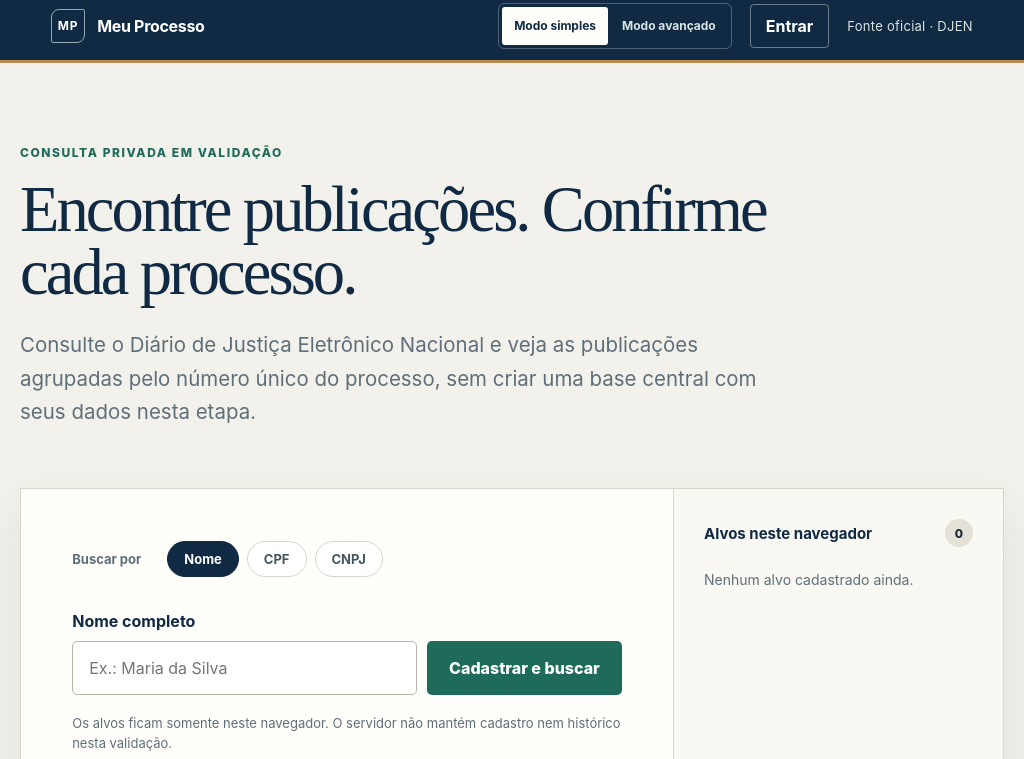
it: App › shows identical case facts in simple and advanced modes without refetching
Click the button "Entrar": (790, 26) [750, 4, 829, 48]
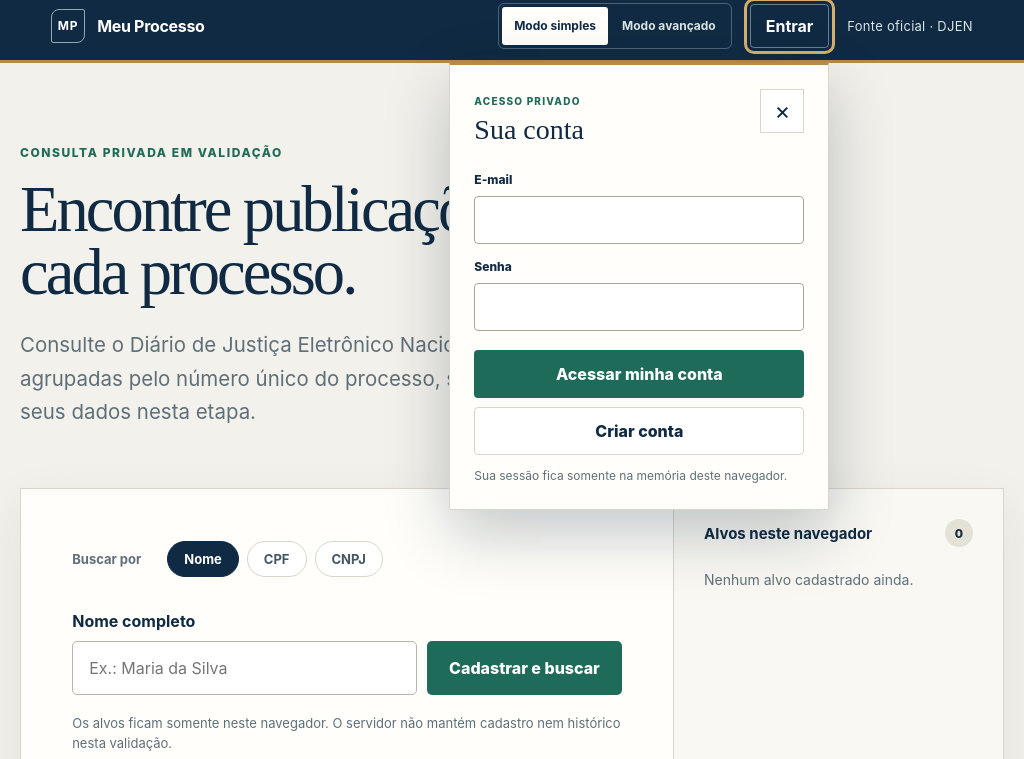
In the field labelled "E-mail": (639, 220) [474, 196, 804, 244], type "pessoa@example.test"
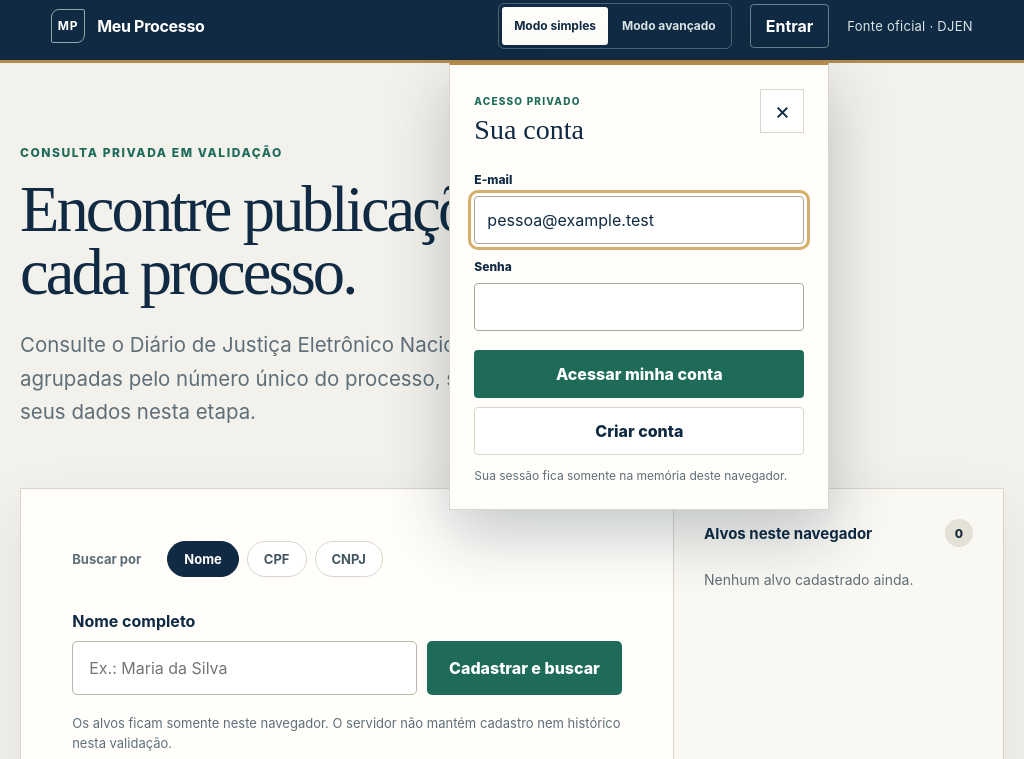
In the password field labelled "Senha": (639, 306) [474, 282, 804, 330], type "uma-senha-segura"
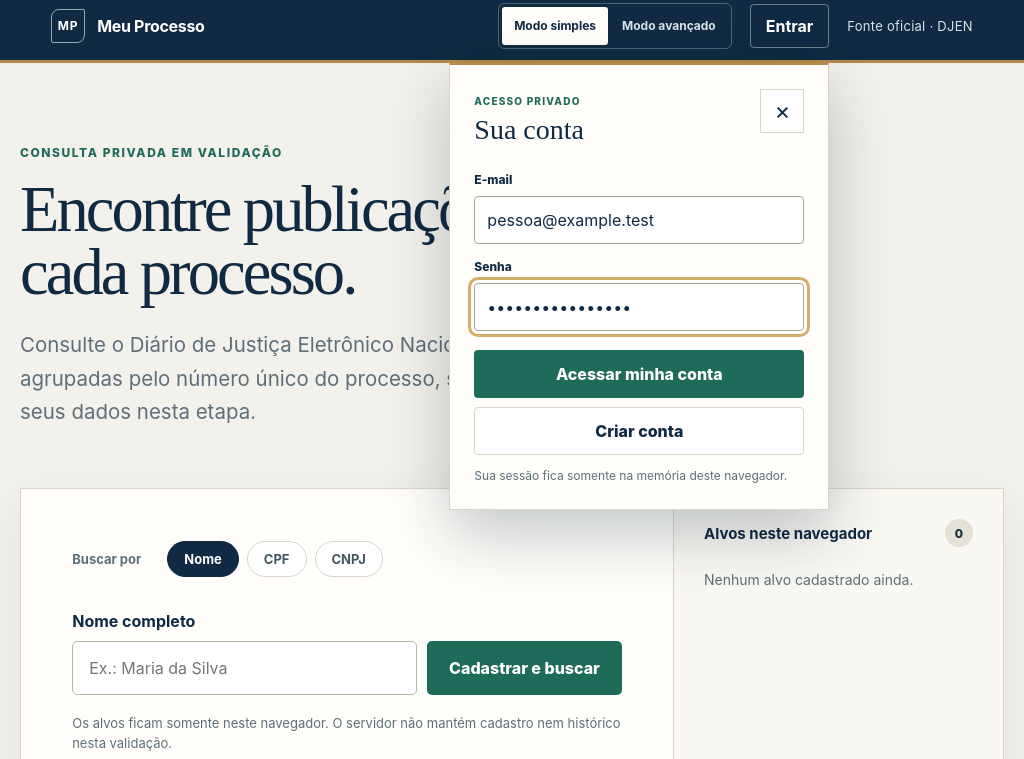
Click the button "Acessar minha conta": (639, 374) [474, 350, 804, 398]
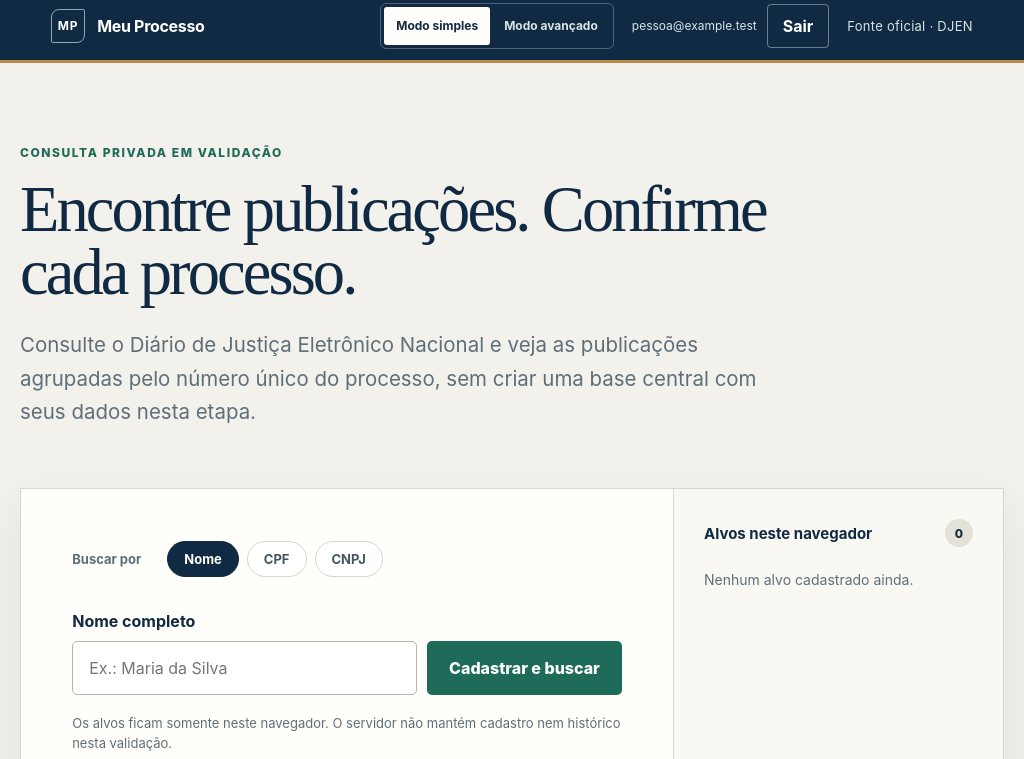
Now the text "pessoa@example.test" is shown, box [632, 18, 757, 33]
In the field labelled "Nome completo": (245, 668) [72, 640, 417, 694], type "Pessoa Exemplo"
Click the button "Cadastrar e buscar": (524, 668) [427, 640, 622, 694]
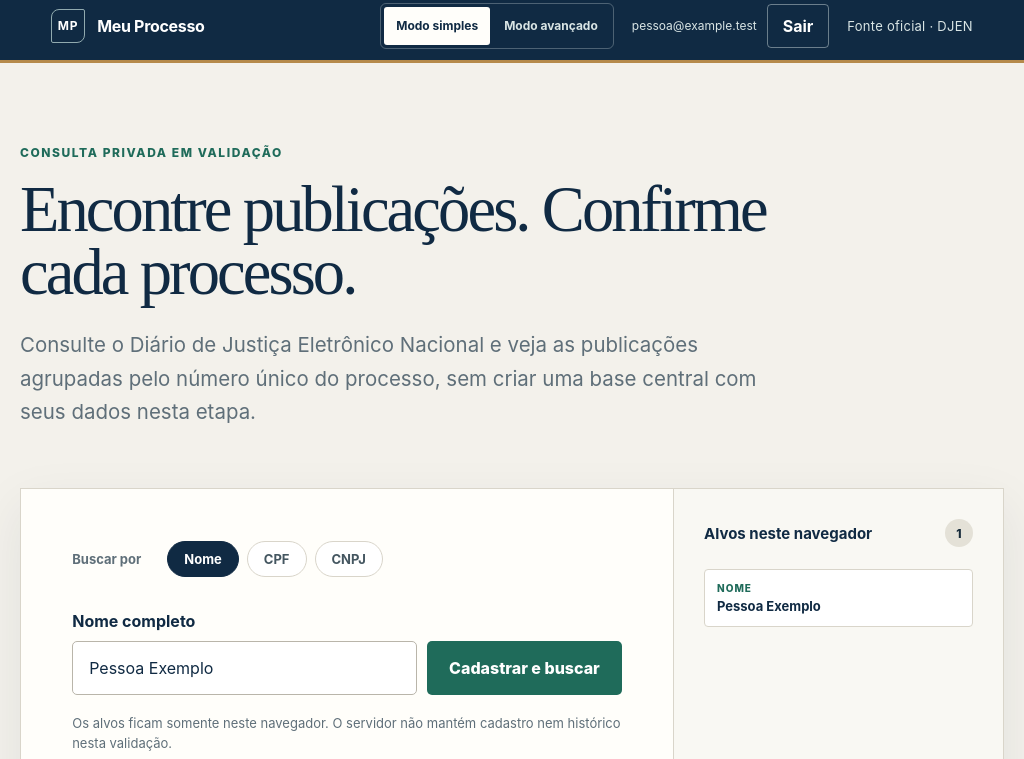
Click the button "Modo avançado": (551, 26) [492, 6, 610, 44]
(page scrolled)
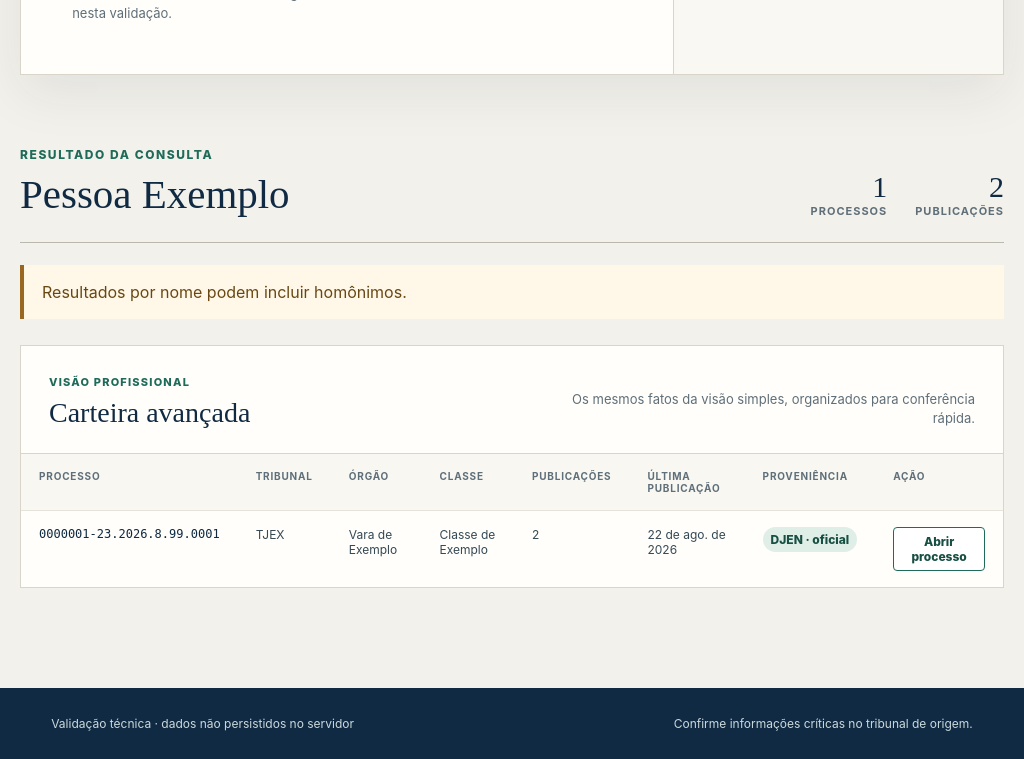
Now the cell "0000001-23.2026.8.99.0001" is shown, box [21, 510, 238, 587]
Now the cell "TJEX" is shown, box [238, 510, 331, 587]
Now the heading "Carteira avançada" is shown, box [49, 397, 250, 429]
